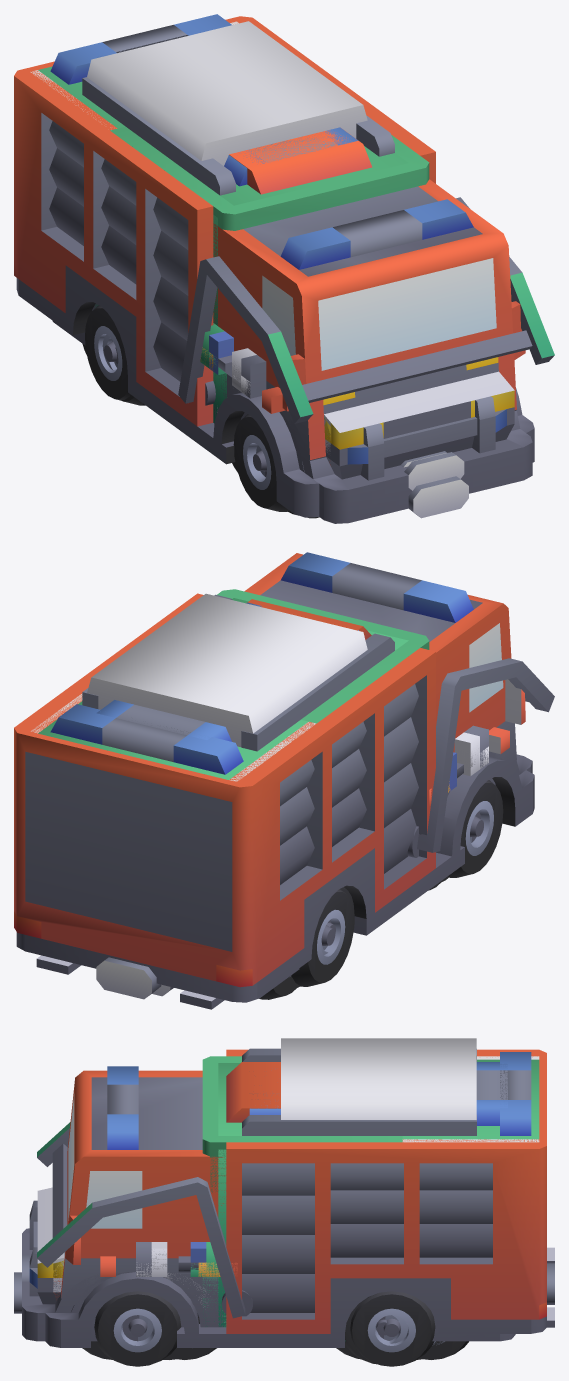
Rendered from kit-cars.glb.
3 views of the same model, one above another, from view 1: azimuth 30°, elevation 25°; view 2: azimuth 150°, elevation 25°; view 3: azimuth 270°, elevation 25° (orthographic). The views are drawn at different scales.
Parts seen in each view (by area): view 1: body (×5), arm, grill, wheel-front-right, wheel-back-right; view 2: body (×4), arm, wheel-back-right, wheel-front-right; view 3: body (×12), arm, wheel-back-left (×3), wheel-front-left, grill.
Boxes of the visible parts, x1,y1,x2,y2 form: body (×5): [14, 14, 534, 523]; arm: [178, 197, 554, 423]; grill: [347, 396, 506, 490]; wheel-front-right: [233, 414, 288, 511]; wheel-back-right: [85, 305, 130, 400]; body (×4): [14, 552, 534, 1009]; arm: [407, 658, 554, 857]; wheel-back-right: [291, 889, 354, 986]; wheel-front-right: [448, 780, 503, 877]; body (×12): [14, 1038, 554, 1347]; arm: [37, 1122, 253, 1318]; wheel-back-left (×3): [345, 1291, 468, 1366]; wheel-front-left: [94, 1291, 181, 1366]; grill: [22, 1200, 38, 1296].
Size of the model in its own units: 1.6 by 1.8 by 3.45.
Materials: 1 (1 with a texture image).
